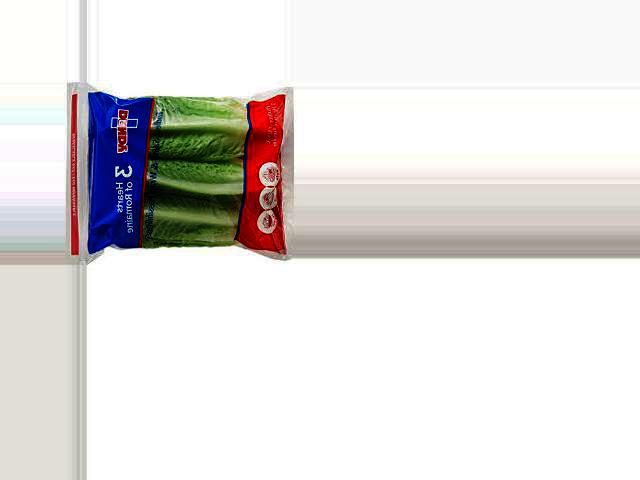lettuce: (76, 89, 215, 249)
